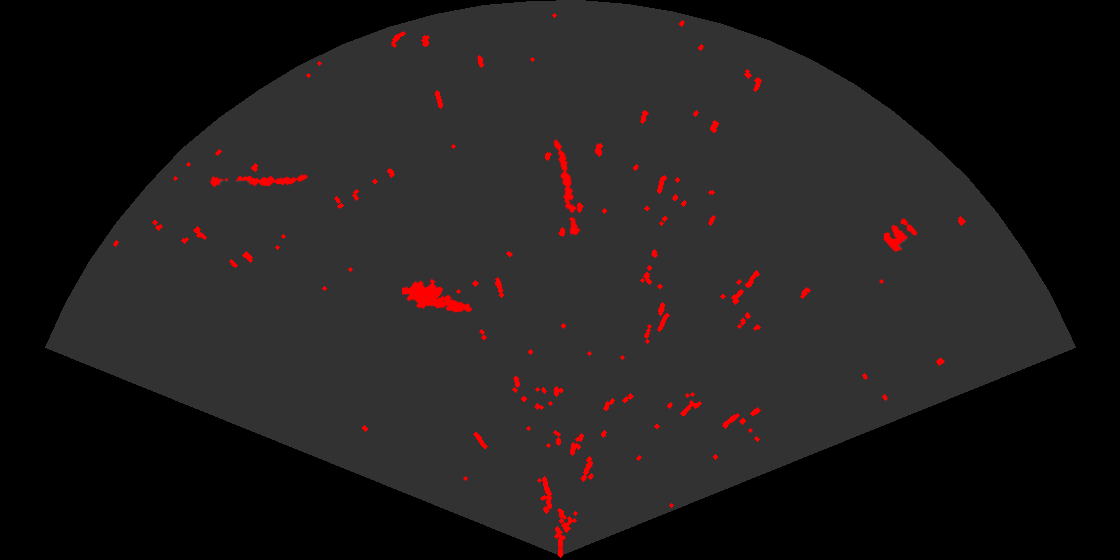ball: (882, 217, 919, 253)
chain: (552, 138, 582, 237), (209, 173, 309, 189)
frogman: (402, 277, 474, 314)
